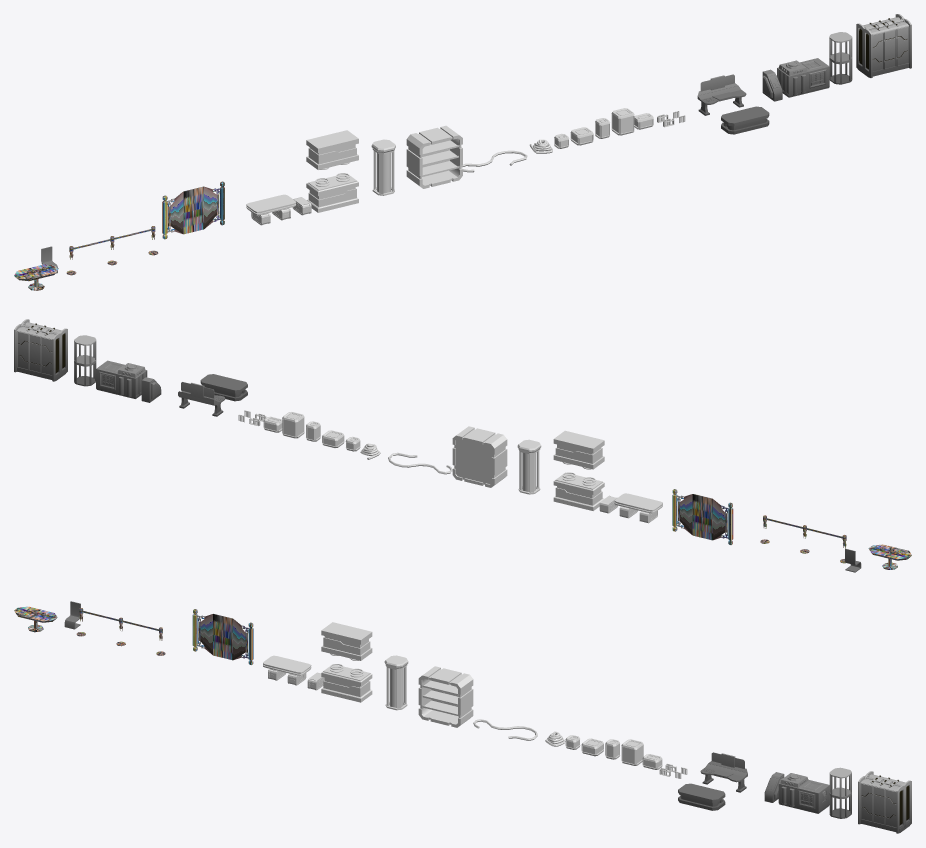
Rendered from PropsLab01.fbx.
3 views of the same model, one above another, from view 1: azimuth 30°, elevation 25°; view 2: azimuth 150°, elevation 25°; view 3: azimuth 330°, elevation 25° (orthographic). The views are drawn at different scales.
Parts seen in each view (by area): view 1: Box012, Box014, Box028, Box027, Box015, Box024, Box008, Box013, Box022, Box009, Box003, Box021; view 2: Box012, Box014, Box028, Box027, Box015, Box008, Box024, Box013, Box009, Box003, Box021; view 3: Box012, Box014, Box028, Box027, Box024, Box015, Box008, Box013, Box022, Box009, Box003, Box021.
Boxes of the visible parts, x1,y1,x2,y2 form: Box012: [306, 130, 358, 212]; Box014: [406, 125, 462, 188]; Box028: [856, 14, 911, 77]; Box027: [777, 58, 829, 97]; Box015: [829, 32, 852, 84]; Box024: [721, 106, 769, 134]; Box008: [183, 186, 203, 234]; Box013: [371, 139, 395, 195]; Box022: [697, 83, 746, 115]; Box009: [246, 194, 295, 215]; Box003: [14, 264, 58, 290]; Box021: [611, 108, 634, 135]; Box012: [553, 430, 604, 510]; Box014: [452, 426, 507, 487]; Box028: [14, 319, 67, 381]; Box027: [96, 360, 147, 398]; Box015: [74, 335, 96, 386]; Box008: [692, 494, 712, 540]; Box024: [200, 374, 247, 401]; Box013: [517, 439, 541, 494]; Box009: [614, 493, 662, 513]; Box003: [868, 544, 911, 569]; Box021: [282, 412, 304, 438]; Box012: [321, 622, 372, 702]; Box014: [418, 666, 473, 727]; Box028: [858, 771, 911, 833]; Box027: [778, 773, 829, 813]; Box024: [678, 783, 725, 810]; Box015: [829, 767, 851, 818]; Box008: [213, 614, 232, 660]; Box013: [384, 655, 408, 710]; Box022: [700, 761, 747, 792]; Box009: [263, 655, 311, 675]; Box003: [14, 606, 57, 632]; Box021: [621, 739, 643, 765].
Size of the model in its own units: 867 by 60.13 by 65.55.
2 materials, 1 textured.
